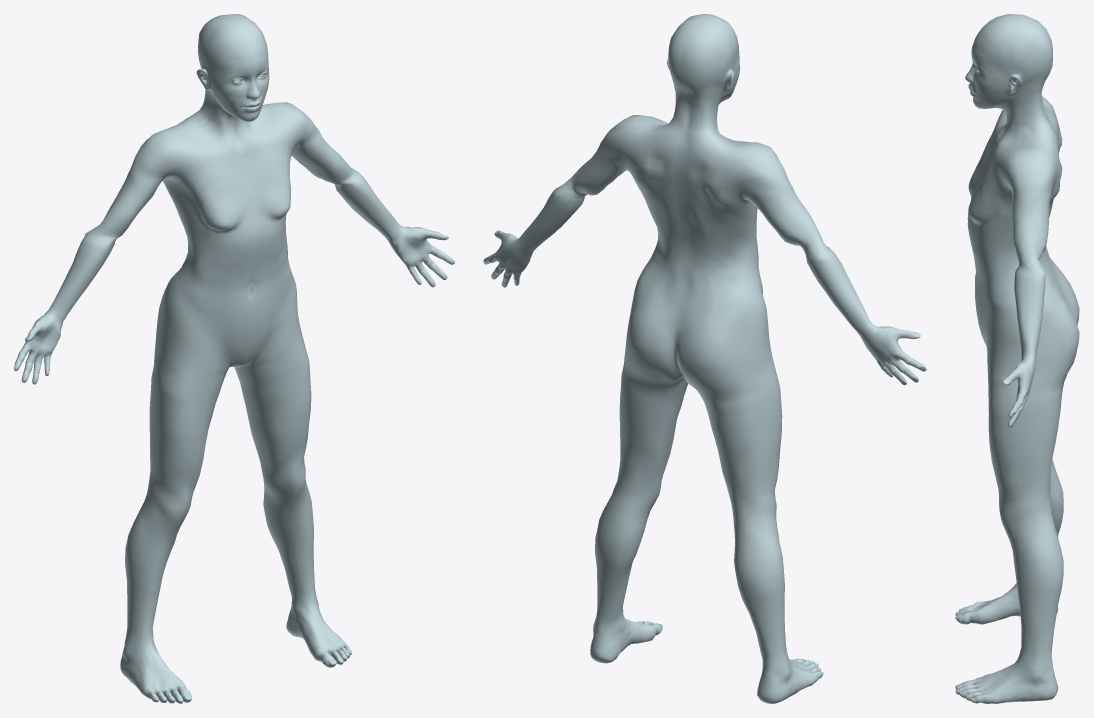
File: human-learning.glb
3 renders of one model, left to right at view 1: azimuth 30°, elevation 25°; view 2: azimuth 150°, elevation 25°; view 3: azimuth 270°, elevation 25°, orthographic.
Visible parts, largest first — view 1: MakeHuman body - palms-forward study pose; view 2: MakeHuman body - palms-forward study pose; view 3: MakeHuman body - palms-forward study pose.
Part boxes in pixels (box(x1,y1,x2,y2)): MakeHuman body - palms-forward study pose: box(14, 14, 454, 703); MakeHuman body - palms-forward study pose: box(483, 14, 926, 703); MakeHuman body - palms-forward study pose: box(955, 14, 1079, 703).
Bounding box in the file's own units: 1.32 × 1.85 × 0.3251.
